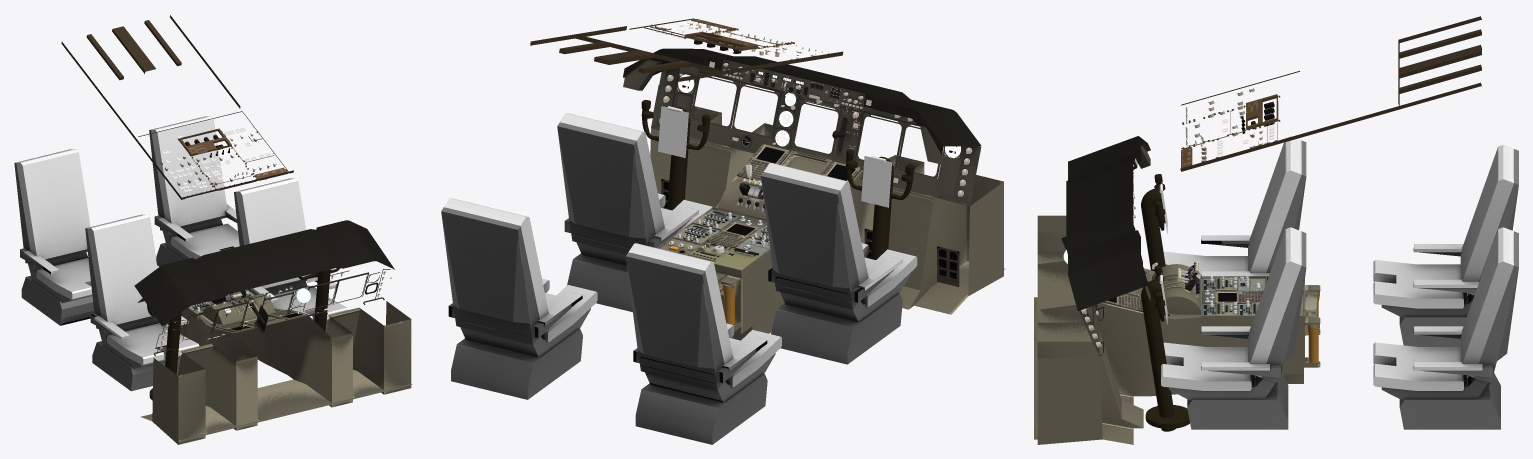
File: interior.gltf
The picture shows the model from 3 angles, left to right: view 1: azimuth 30°, elevation 25°; view 2: azimuth 150°, elevation 25°; view 3: azimuth 270°, elevation 25°; orthographic projection. The views are drawn at different scales.
Parts seen in each view (by area): view 1: Interior; view 2: Interior; view 3: Interior.
Boxes of the visible parts, bbox=[...] form: Interior: bbox=[14, 15, 412, 444]; Interior: bbox=[441, 18, 1005, 444]; Interior: bbox=[1034, 16, 1518, 444].
Bounding box in the file's own units: 1.67 × 1.84 × 2.41.
Materials: 36 (33 with a texture image).
